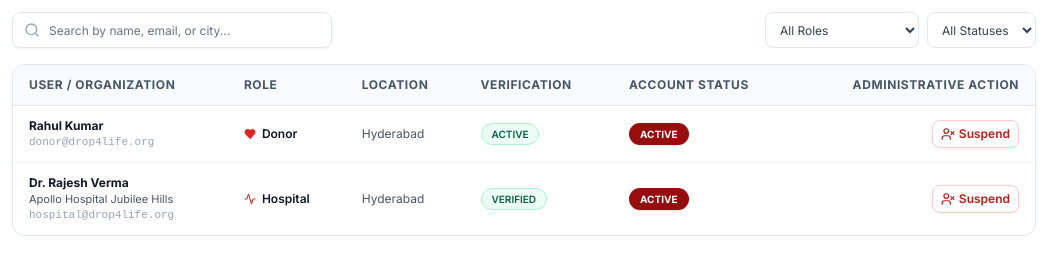
Scenario: Admin Components Testing › renders UserManagementTable and filters search query
Expected: the text "Rahul Kumar" is shown, x1=29 y1=118 x2=103 y2=133
Expected: the text "Dr. Rajesh Verma" is shown, x1=29 y1=175 x2=129 y2=190
In the field with placeholder "Search by name, email, or city...": (172, 30) x1=12 y1=12 x2=332 y2=48, type "Rahul"
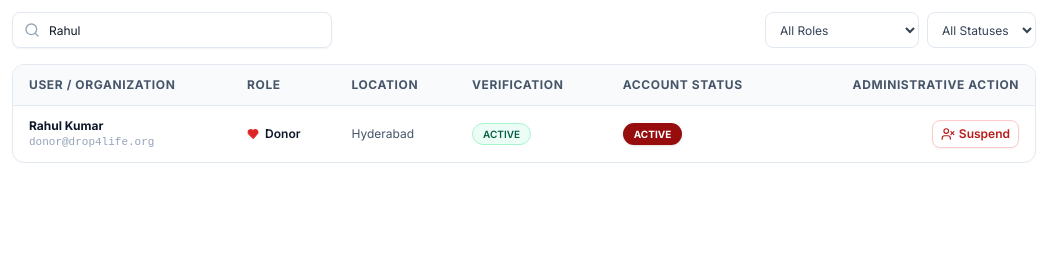
Expected: the text "Rahul Kumar" is shown, x1=29 y1=118 x2=103 y2=133
Now the text "Dr. Rajesh Verma" is gone
